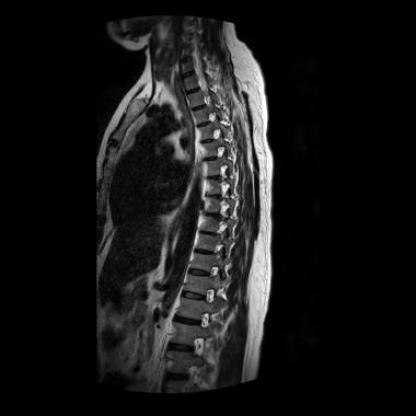Demyelinating Plaquesrotation: (198, 209, 221, 221), (197, 137, 217, 147)
Hemangiomatarotation: (187, 253, 213, 272), (195, 122, 214, 136)
